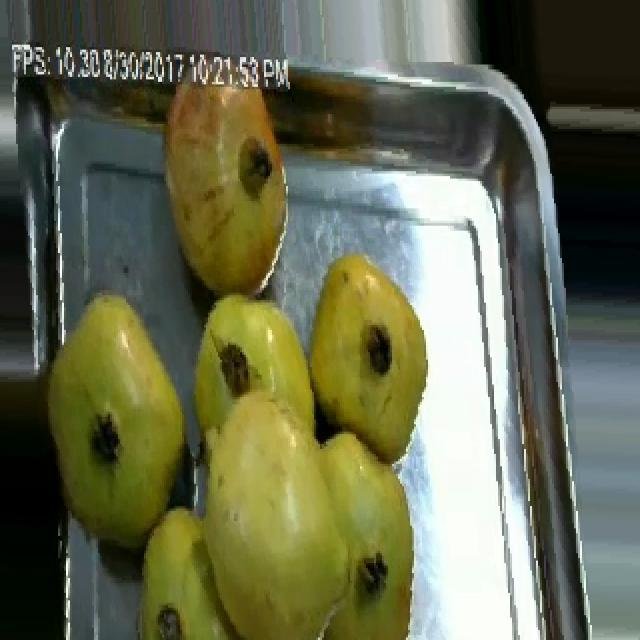fruit: (146, 57, 308, 315), (290, 236, 438, 454)
